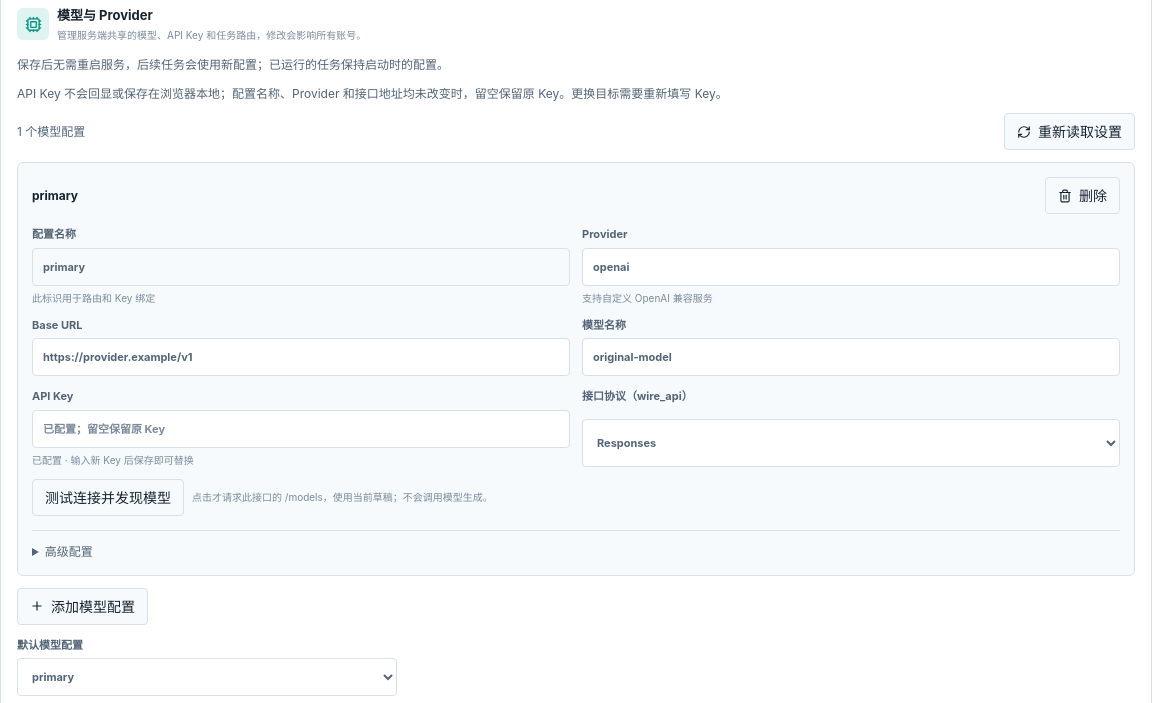
Test case: model diagnostics draft workbench › retains drafts and explains server revision conflicts during checks
The width and height of the screenshot is (1152, 703).
In the field named "primary 模型名称": (851, 357) [582, 338, 1120, 376], type "-draft"
(page scrolled)
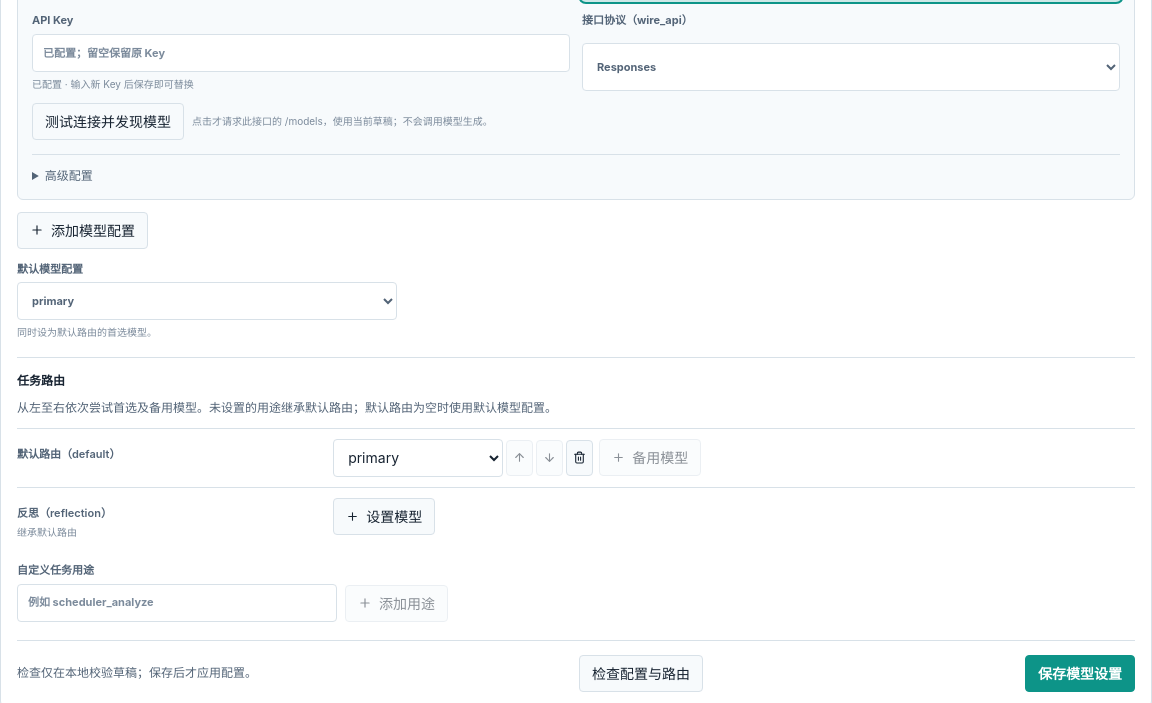
Click the button "检查配置与路由": (641, 673) [579, 655, 703, 692]
(page scrolled)
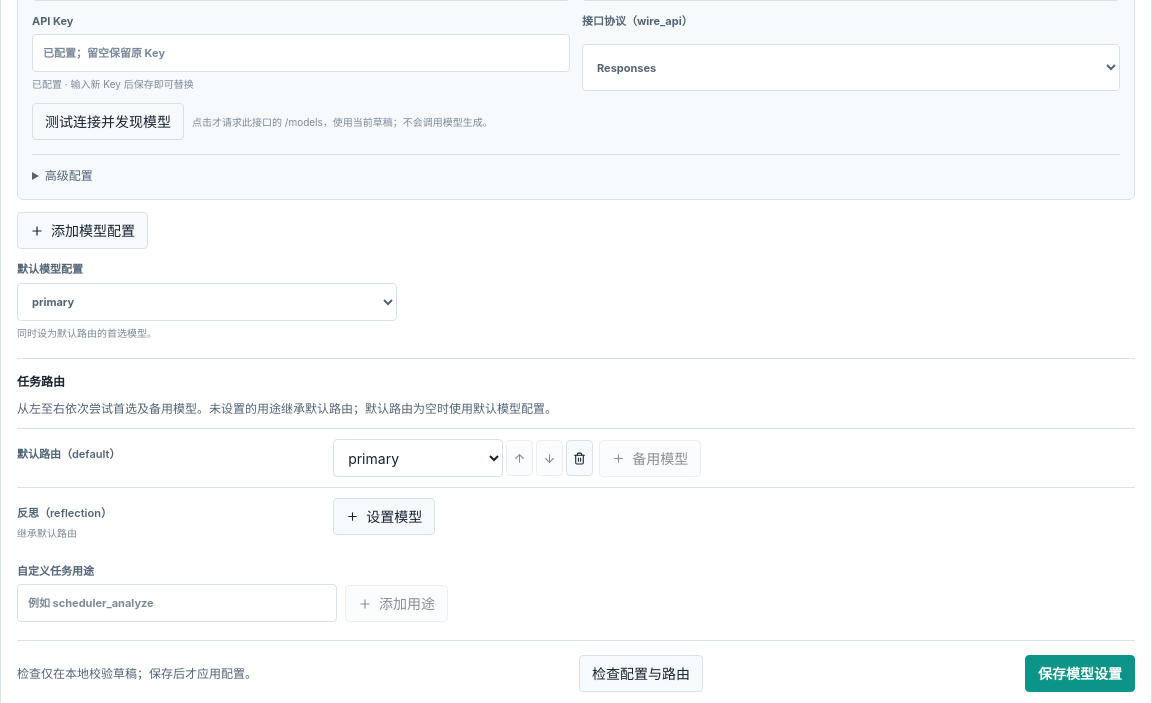
Click the button with aria-label "测试 primary 连接并发现模型": (108, 122) [32, 104, 184, 140]
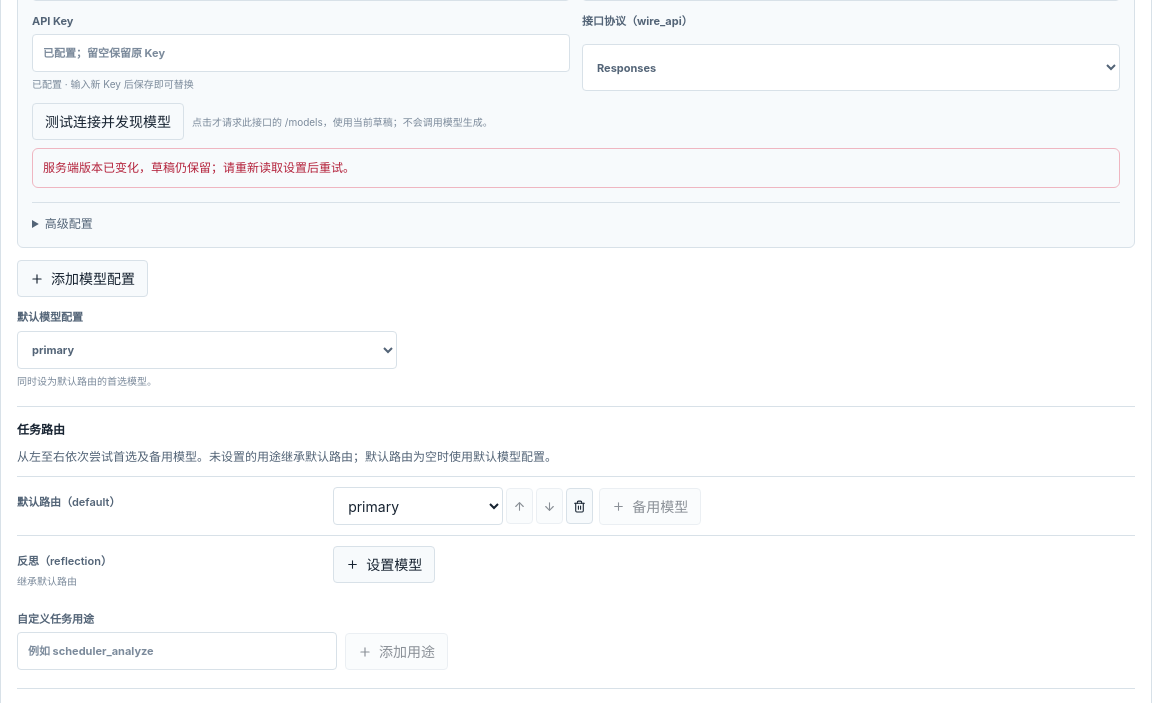
Now the number of messages is 2
Now the message shows "草稿仍保留", box [43, 160, 355, 176]
